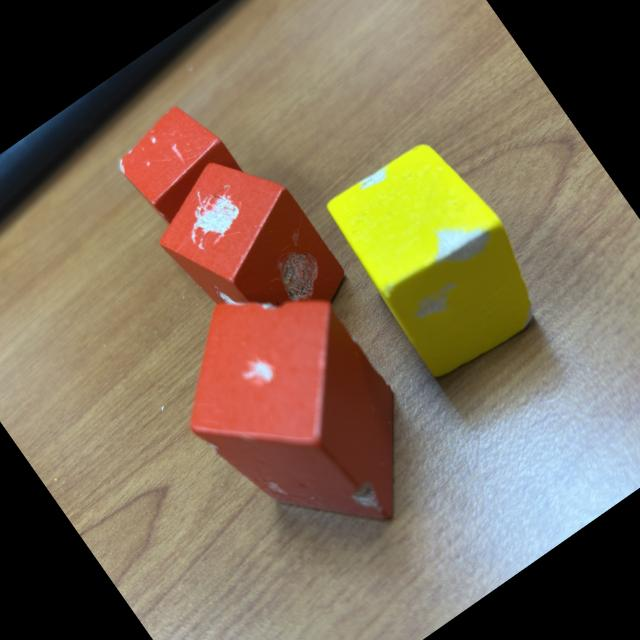broken: (141, 249, 452, 582), (316, 125, 559, 386), (137, 134, 354, 362), (106, 93, 264, 259)
